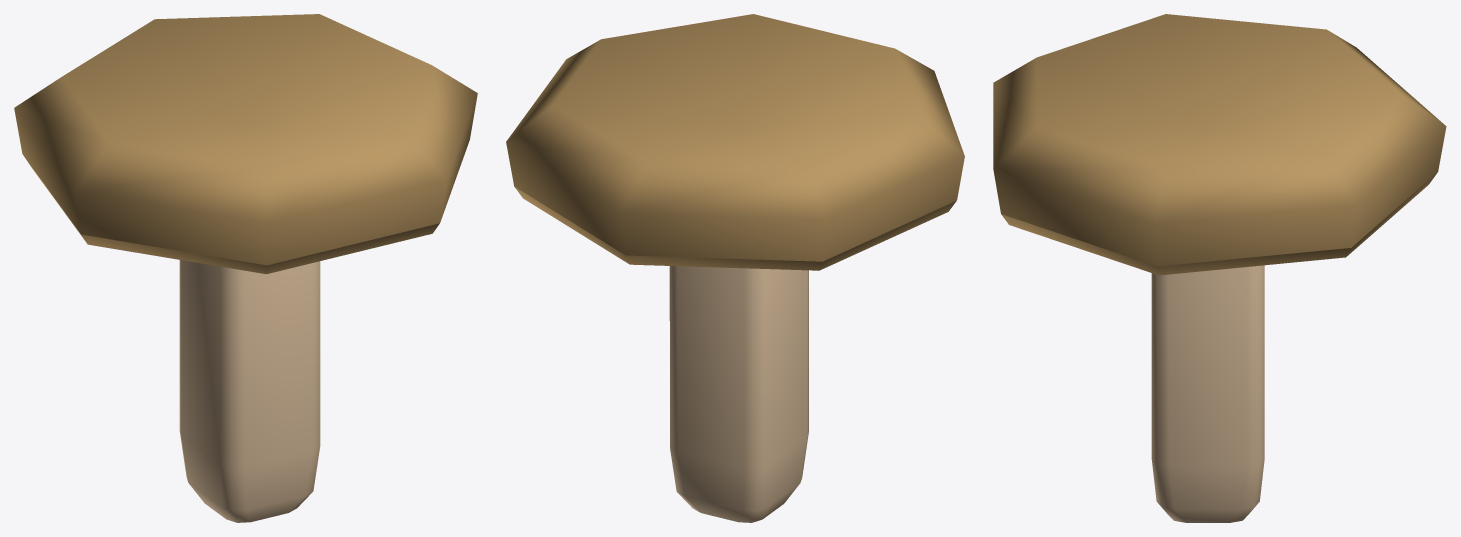
File: Flat Mushroom.fbx
3 renders of one model, left to right at view 1: azimuth 30°, elevation 25°; view 2: azimuth 150°, elevation 25°; view 3: azimuth 270°, elevation 25°, orthographic.
Parts seen in each view (by area): view 1: Top.001; view 2: Top.001; view 3: Top.001.
Part boxes in pixels (box(x1,y1,x2,y2)): Top.001: box(14, 14, 477, 522); Top.001: box(506, 14, 964, 522); Top.001: box(993, 14, 1446, 522).
Bounding box in the file's own units: 104 × 102 × 101.
